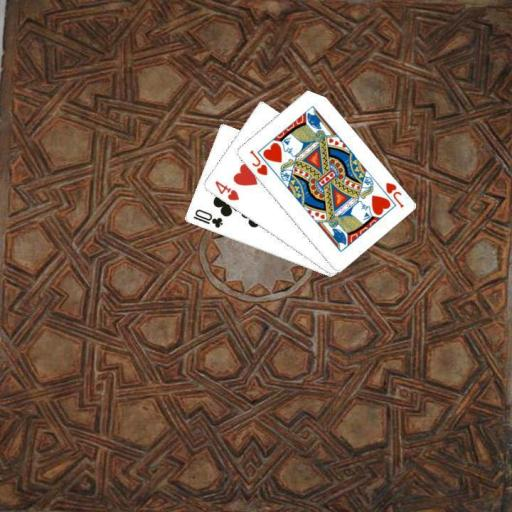card-corner: (190, 206, 224, 230), (246, 147, 269, 177), (382, 179, 405, 209), (212, 178, 240, 202)
